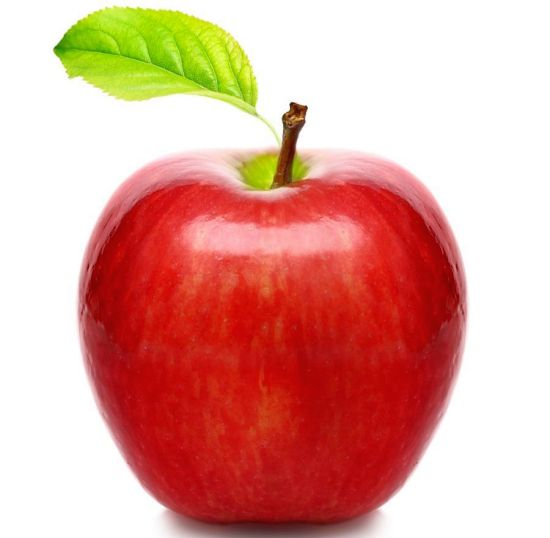apple: (49, 5, 470, 530)
